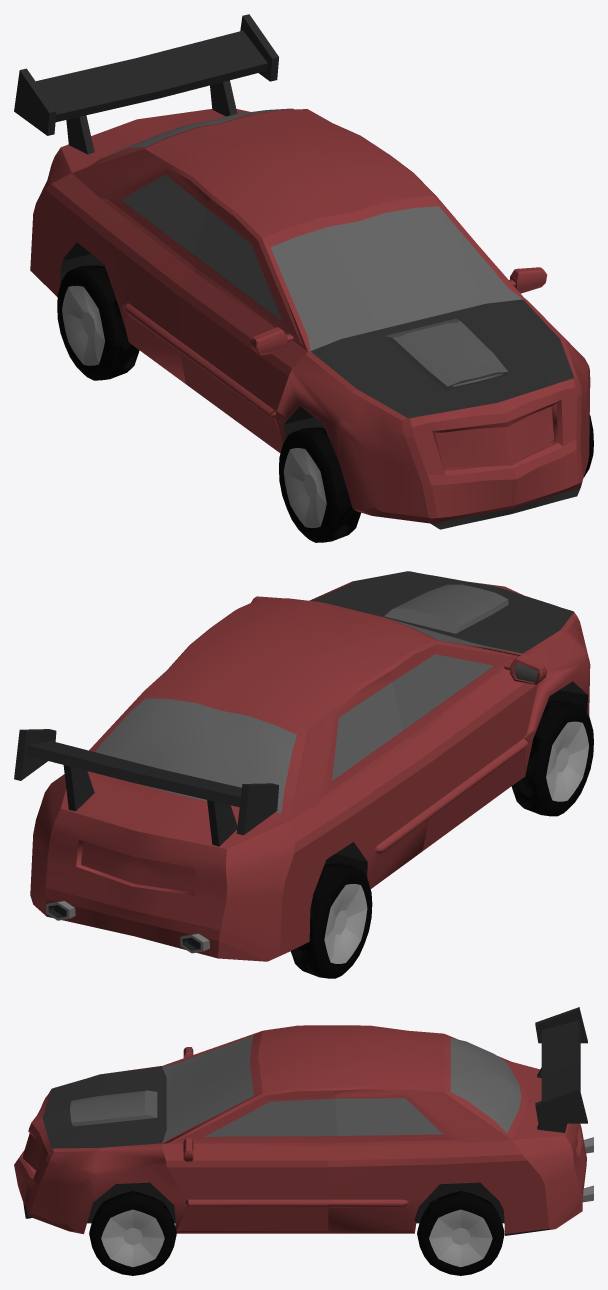
File: CarSumo.fbx
The picture shows the model from 3 angles, top to bottom: view 1: azimuth 30°, elevation 25°; view 2: azimuth 150°, elevation 25°; view 3: azimuth 270°, elevation 25°; orthographic projection. The views are drawn at different scales.
Parts seen in each view (by area): view 1: car-passenger-race-base, car-passenger-race-base.001, Door, Spoiler, car-passenger-race-wheel_BL.003, car-passenger-race-wheel_BL.002, Mirror; view 2: car-passenger-race-base, Door, car-passenger-race-base.001, Spoiler, car-passenger-race-wheel_BL.002, car-passenger-race-wheel_BL.003, Mirror; view 3: car-passenger-race-base, Door, car-passenger-race-base.001, car-passenger-race-wheel_BL, car-passenger-race-wheel_BL.001, Spoiler.
Boxes of the visible parts, x1=… form: car-passenger-race-base: x1=30, y1=108, x2=590, y2=529; car-passenger-race-base.001: x1=311, y1=299, x2=573, y2=418; Door: x1=175, y1=199, x2=307, y2=453; Spoiler: x1=14, y1=14, x2=278, y2=154; car-passenger-race-wheel_BL.003: x1=57, y1=265, x2=139, y2=380; car-passenger-race-wheel_BL.002: x1=279, y1=427, x2=360, y2=542; Mirror: x1=250, y1=267, x2=547, y2=355; car-passenger-race-base: x1=30, y1=581, x2=590, y2=961; Door: x1=390, y1=644, x2=537, y2=850; car-passenger-race-base.001: x1=312, y1=571, x2=573, y2=653; Spoiler: x1=14, y1=729, x2=278, y2=846; car-passenger-race-wheel_BL.002: x1=511, y1=701, x2=593, y2=816; car-passenger-race-wheel_BL.003: x1=290, y1=863, x2=372, y2=978; Mirror: x1=251, y1=596, x2=547, y2=684; car-passenger-race-base: x1=14, y1=1025, x2=593, y2=1235; Door: x1=162, y1=1090, x2=336, y2=1231; car-passenger-race-base.001: x1=42, y1=1066, x2=166, y2=1148; car-passenger-race-wheel_BL: x1=417, y1=1191, x2=504, y2=1275; car-passenger-race-wheel_BL.001: x1=89, y1=1191, x2=176, y2=1275; Spoiler: x1=535, y1=1007, x2=587, y2=1132.
Bounding box in the file's own units: 208 × 168 × 484.
